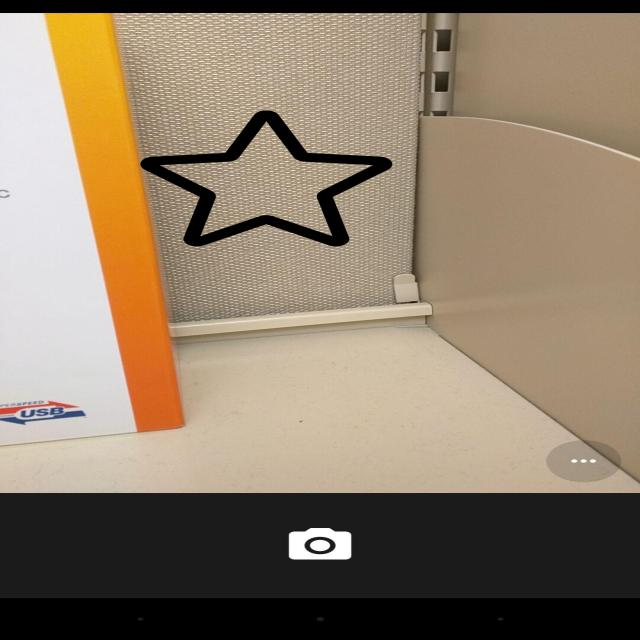forced continuity: (140, 108, 392, 250)
